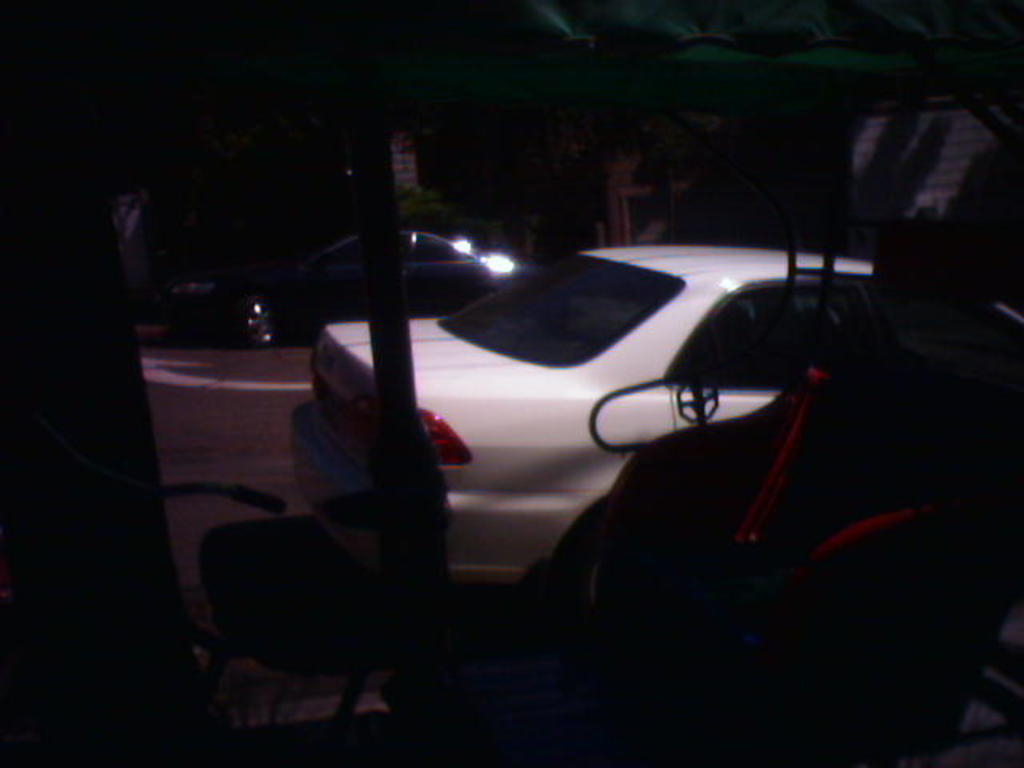Car: (295, 241, 883, 572), (220, 228, 540, 345)
